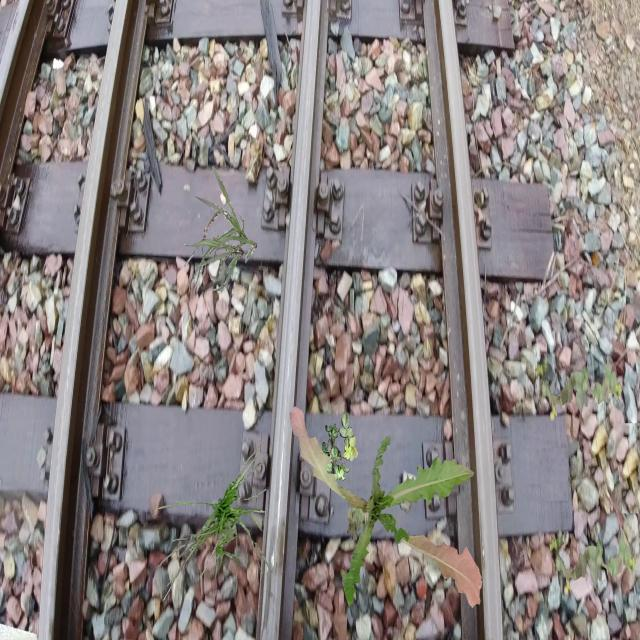Plant: (290, 406, 482, 608), (155, 439, 274, 602), (184, 166, 257, 290), (535, 353, 622, 422), (549, 528, 636, 596), (321, 411, 358, 484), (347, 498, 373, 540)
